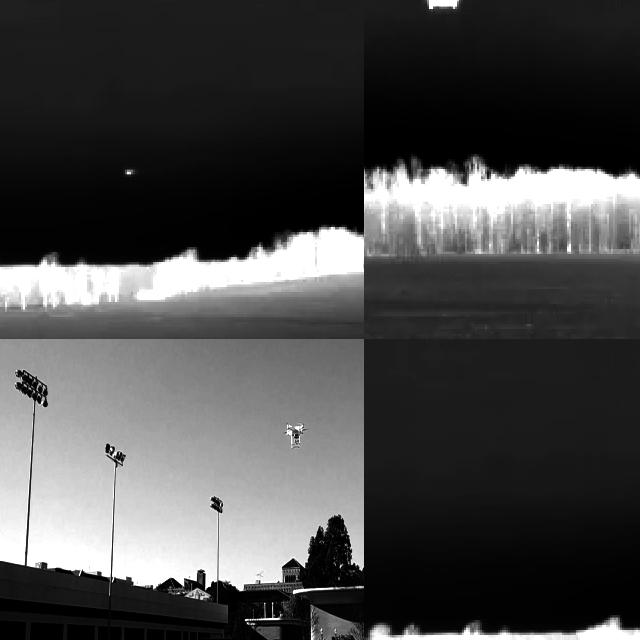0: (113, 162, 139, 190)
1: (412, 0, 472, 20)
drone: (283, 418, 305, 452)
